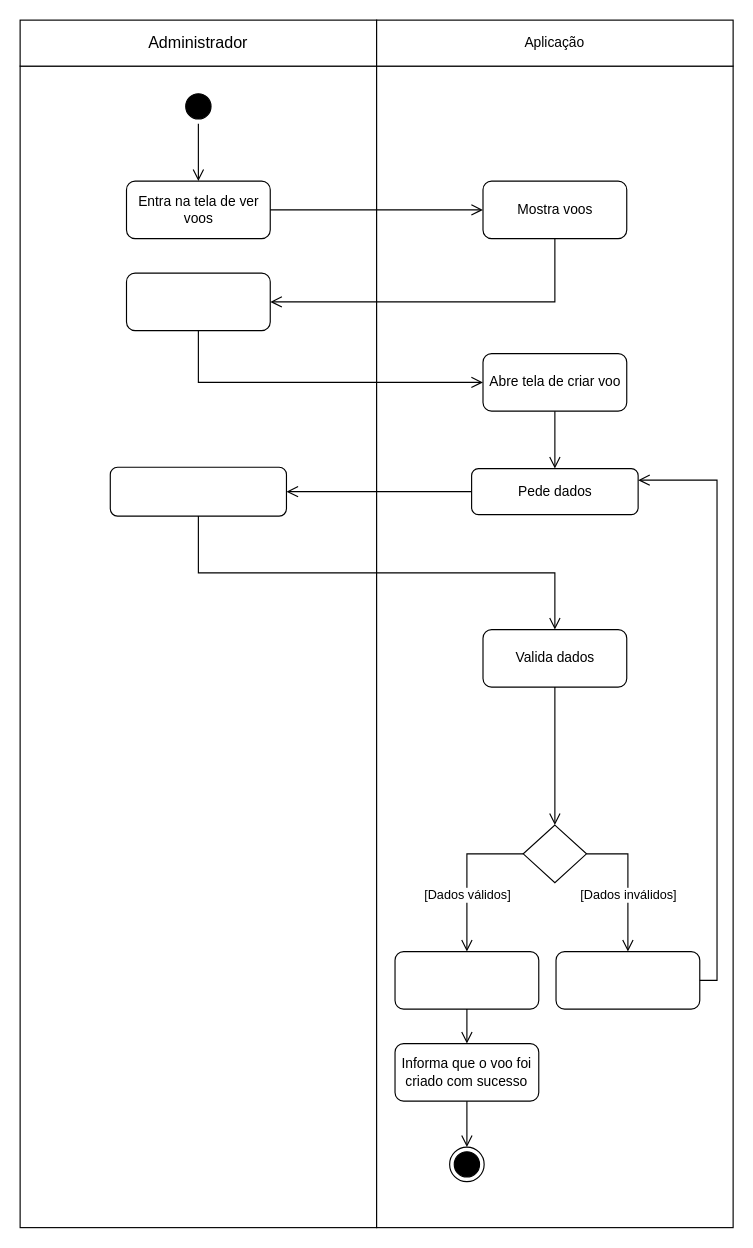
The diagram is 753 pixels wide and 1248 high, and some of its shapes have lost their labels. The shapes that lost their labels are listed below. From the top down, each one's box as (x1, y1, x2, y2) in pixels, then its label:
(125, 272, 270, 331): Escolhe criar voo
(109, 466, 286, 516): Insere dados
(394, 950, 539, 1009): Cria voo
(555, 950, 700, 1009): Informa que os dados são inválidos
